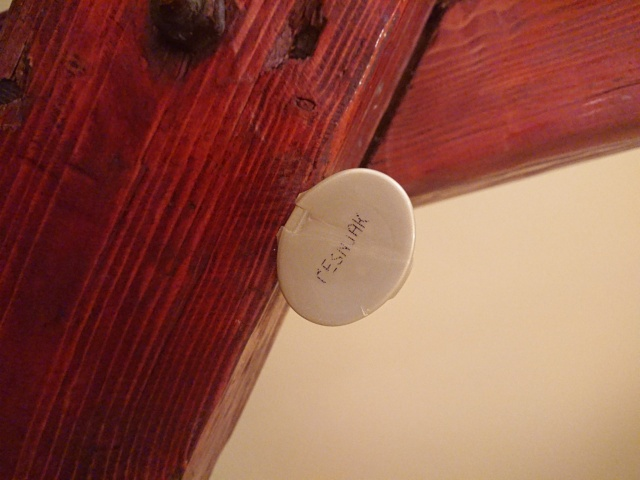Kotanyi Garlic Granules 70g: (273, 166, 419, 329)
